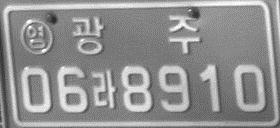0: (232, 64, 267, 112), (20, 66, 53, 114)
1: (194, 64, 227, 114)
6: (56, 65, 88, 114)
8: (120, 64, 153, 113)
9: (157, 64, 190, 113)
광주_D: (72, 13, 201, 54)
라: (90, 69, 117, 108)
영: (19, 17, 55, 56)
